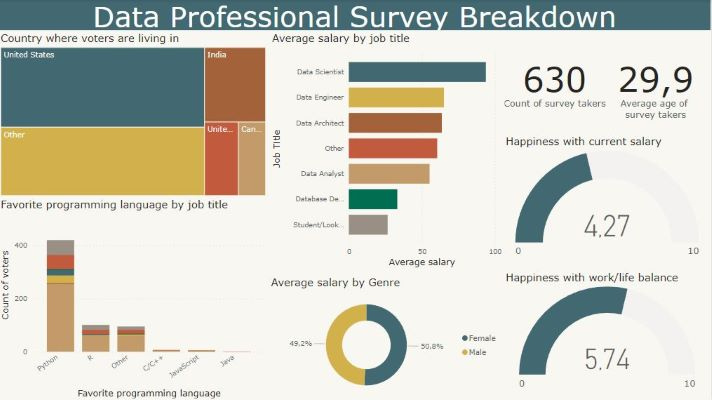

This screenshot's page, from the dashboard's own definition file:
{"tool":"powerbi","page":{"name":"Page 1","canvas":[1280,720],"ordinal":0},"visuals":[{"type":"textbox","title":"Data Professional Survey Breakdown","box":[0,0,1280,56.7],"z":0},{"type":"card","fields":{"Values":["Avg(Data Professional Survey.Q10 - Current Age)"]},"box":[1076.7,58.3,203.3,181.7],"z":1000},{"type":"card","fields":{"Values":["CountNonNull(Data Professional Survey.Unique ID)"]},"box":[892.5,58.5,211.3,181.2],"z":2000},{"type":"barChart","title":"Average salary by job title","fields":{"Y":["Avg(Data Professional Survey.Average Salary)"],"Category":["Data Professional Survey.Q1 - Which Title Best Fits your Current Role?.1"],"Series":["Data Professional Survey.Q1 - Which Title Best Fits your Current Role?.1"]},"box":[486.7,58.3,421.7,426.7],"z":3000},{"type":"columnChart","title":"Favorite programming language by job title","fields":{"Category":["Data Professional Survey.Q5 - Favorite Programming Language.1"],"Y":["CountNonNull(Data Professional Survey.Unique ID)"],"Series":["Data Professional Survey.Job Title"]},"box":[0,356.7,485,363.3],"z":4000},{"type":"treemap","title":"Country where voters are living in","fields":{"Group":["Data Professional Survey.Q11 - Which Country do you live in?.1"],"Values":["CountNonNull(Data Professional Survey.Q11 - Which Country do you live in?.1)"]},"box":[0,58.3,485,298.3],"z":5000},{"type":"gauge","title":"Happiness with current salary","fields":{"Y":["Avg(Data Professional Survey.Q6 - How Happy are you in your Current Position with the following? (Salary))"],"MinValue":["Min(Data Professional Survey.Q6 - How Happy are you in your Current Position with the following? (Salary))"],"MaxValue":["Max(Data Professional Survey.Q6 - How Happy are you in your Current Position with the following? (Salary))"]},"box":[906.7,243.3,373.3,226.7],"z":6000},{"type":"gauge","title":"Happiness with work/life balance","fields":{"Y":["Avg(Data Professional Survey.Q6 - How Happy are you in your Current Position with the following? (Work/Life Balance))"],"MinValue":["Min(Data Professional Survey.Q6 - How Happy are you in your Current Position with the following? (Work/Life Balance))"],"MaxValue":["Max(Data Professional Survey.Q6 - How Happy are you in your Current Position with the following? (Work/Life Balance))"]},"box":[906.7,486.7,373.3,220],"z":7000},{"type":"donutChart","title":"Average salary by Genre","fields":{"Category":["Data Professional Survey.Q9 - Male/Female?"],"Y":["Avg(Data Professional Survey.Average Salary)"]},"box":[485,496.7,421.7,223.3],"z":8000}]}

Visuals, with their boxes in screenshot pixels (x1, y1, x2, y2), scaled from the page's 1280x720 canvas onto the 712x400 screenshot:
"Data Professional Survey Breakdown" textbox: 0/0/711/32
card - Avg(Data Professional Survey.Q10 - Current Age): 599/32/711/133
card - CountNonNull(Data Professional Survey.Unique ID): 496/32/614/133
"Average salary by job title" barChart: 271/32/505/269
"Favorite programming language by job title" columnChart: 0/198/270/399
"Country where voters are living in" treemap: 0/32/270/198
"Happiness with current salary" gauge: 504/135/711/261
"Happiness with work/life balance" gauge: 504/270/711/393
"Average salary by Genre" donutChart: 270/276/504/399
